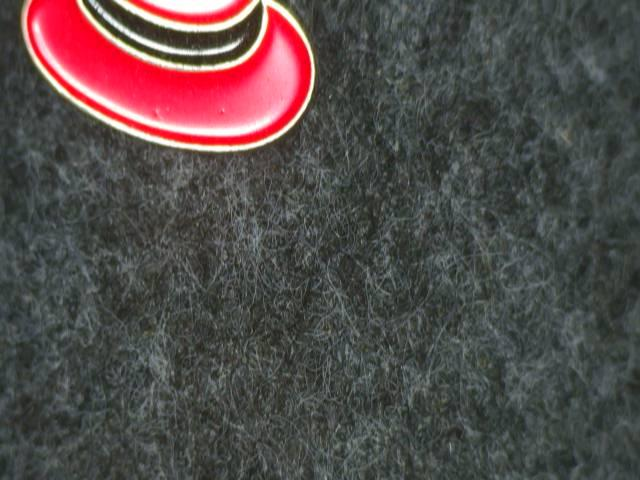Red-Hat: (10, 0, 335, 182)
